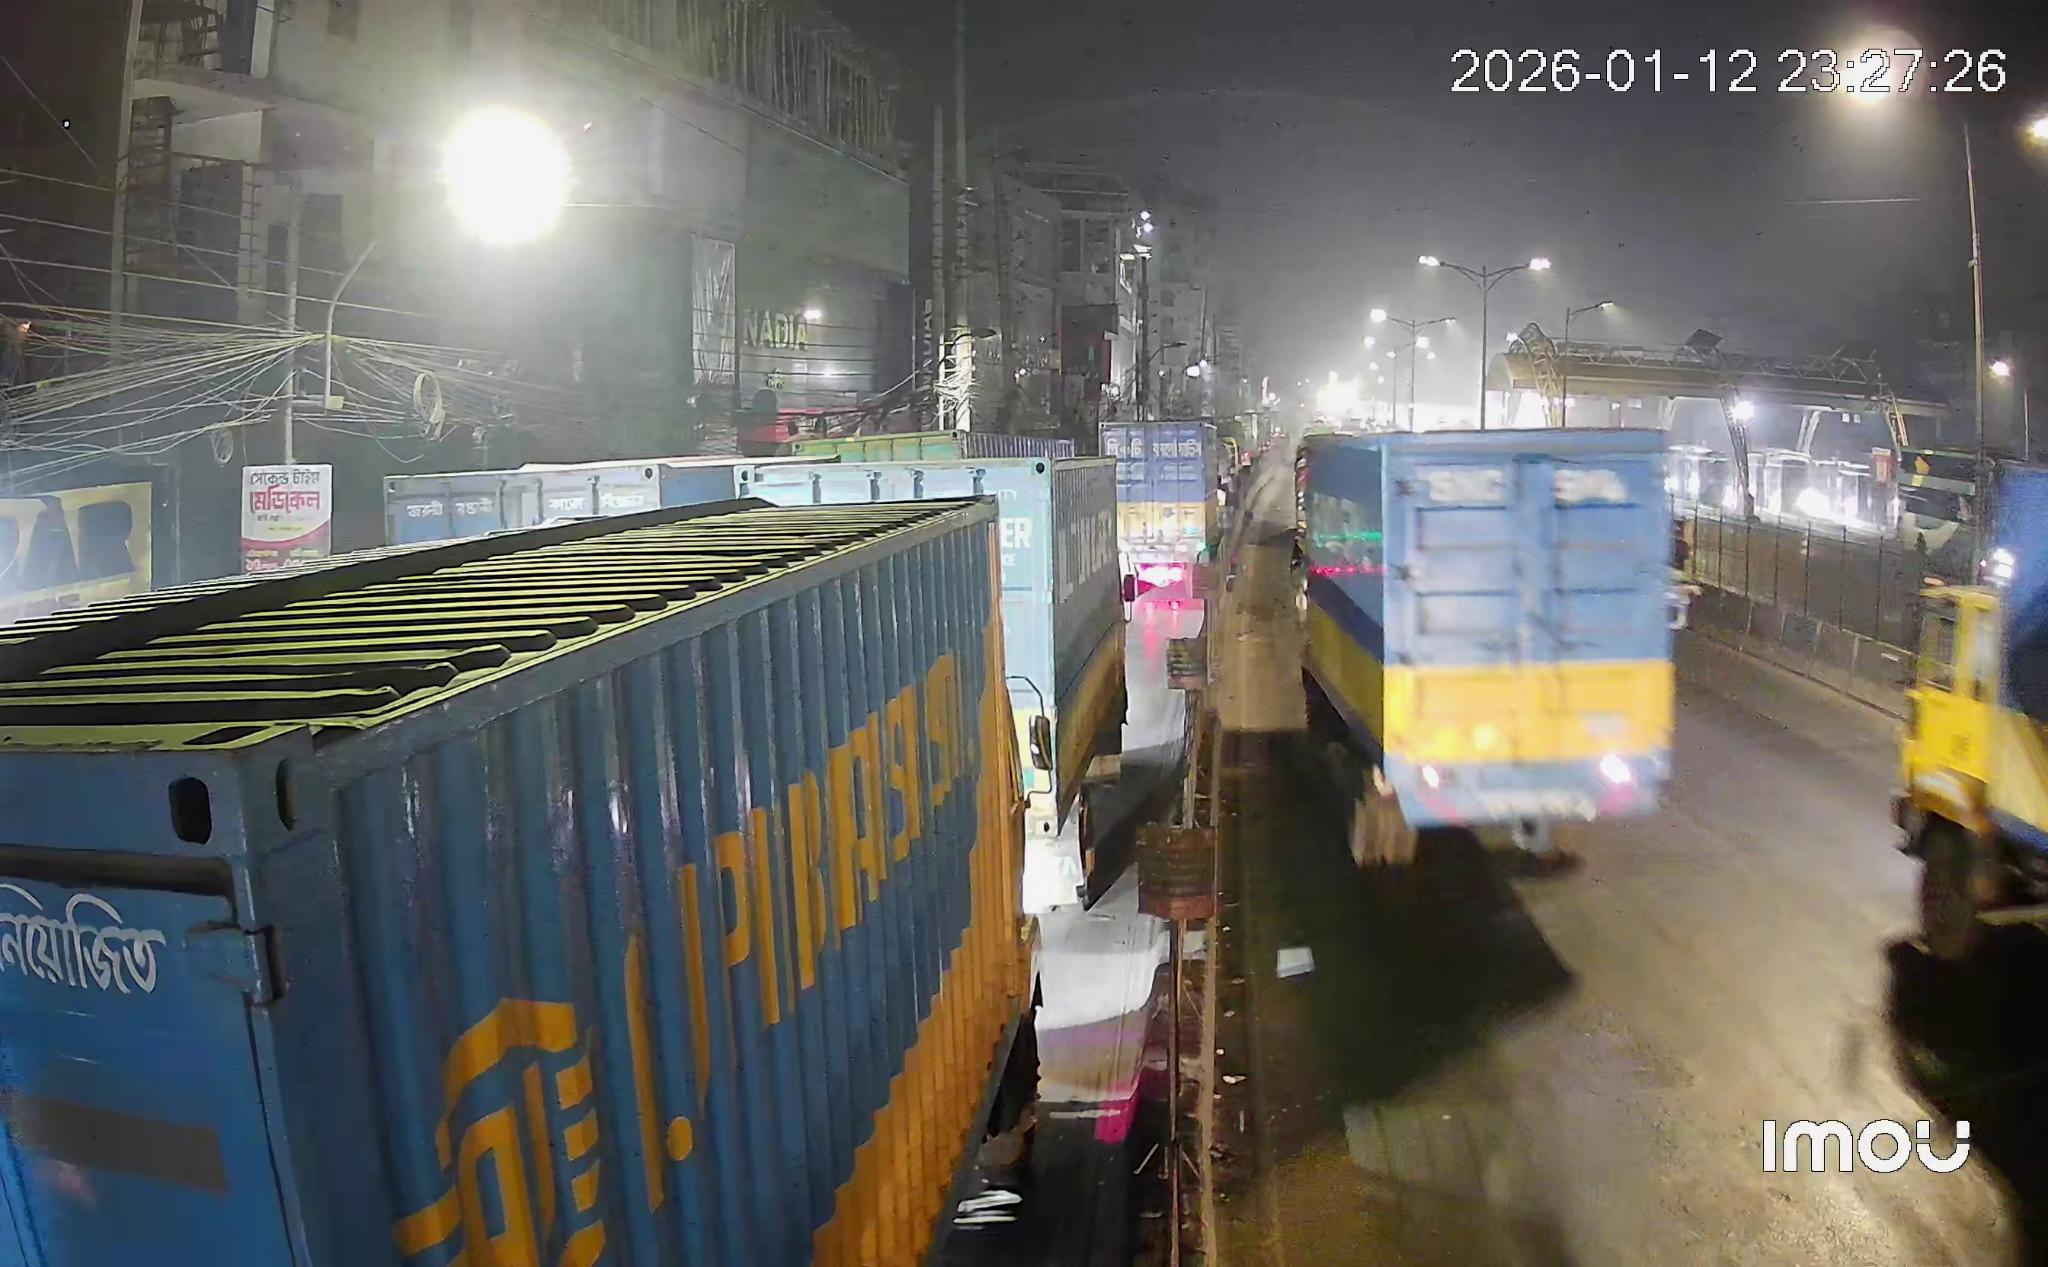Truck: (0, 495, 1039, 1267), (1293, 427, 1694, 868), (752, 456, 1126, 910), (1893, 462, 2047, 961), (1100, 418, 1220, 606)
